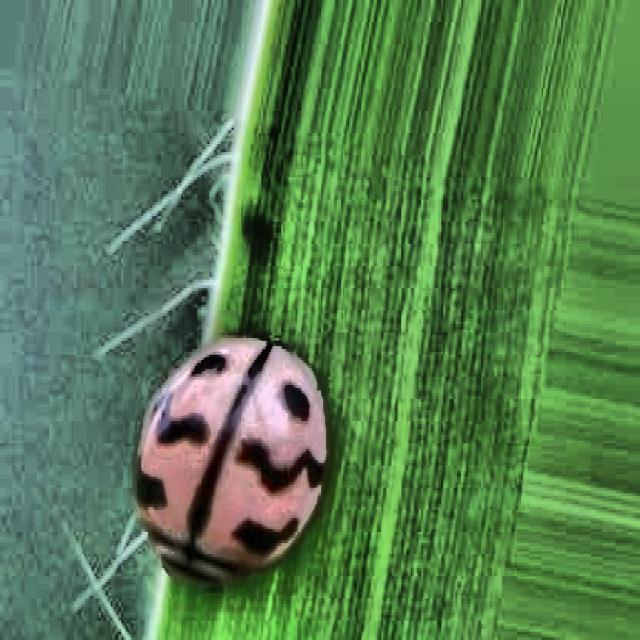Asian-Lady-beetle: (105, 292, 351, 617)
